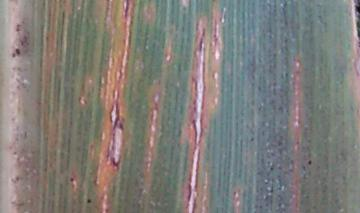tarspot: (307, 158, 314, 167), (69, 176, 76, 183), (250, 135, 257, 142), (87, 197, 93, 205), (271, 166, 276, 173)
